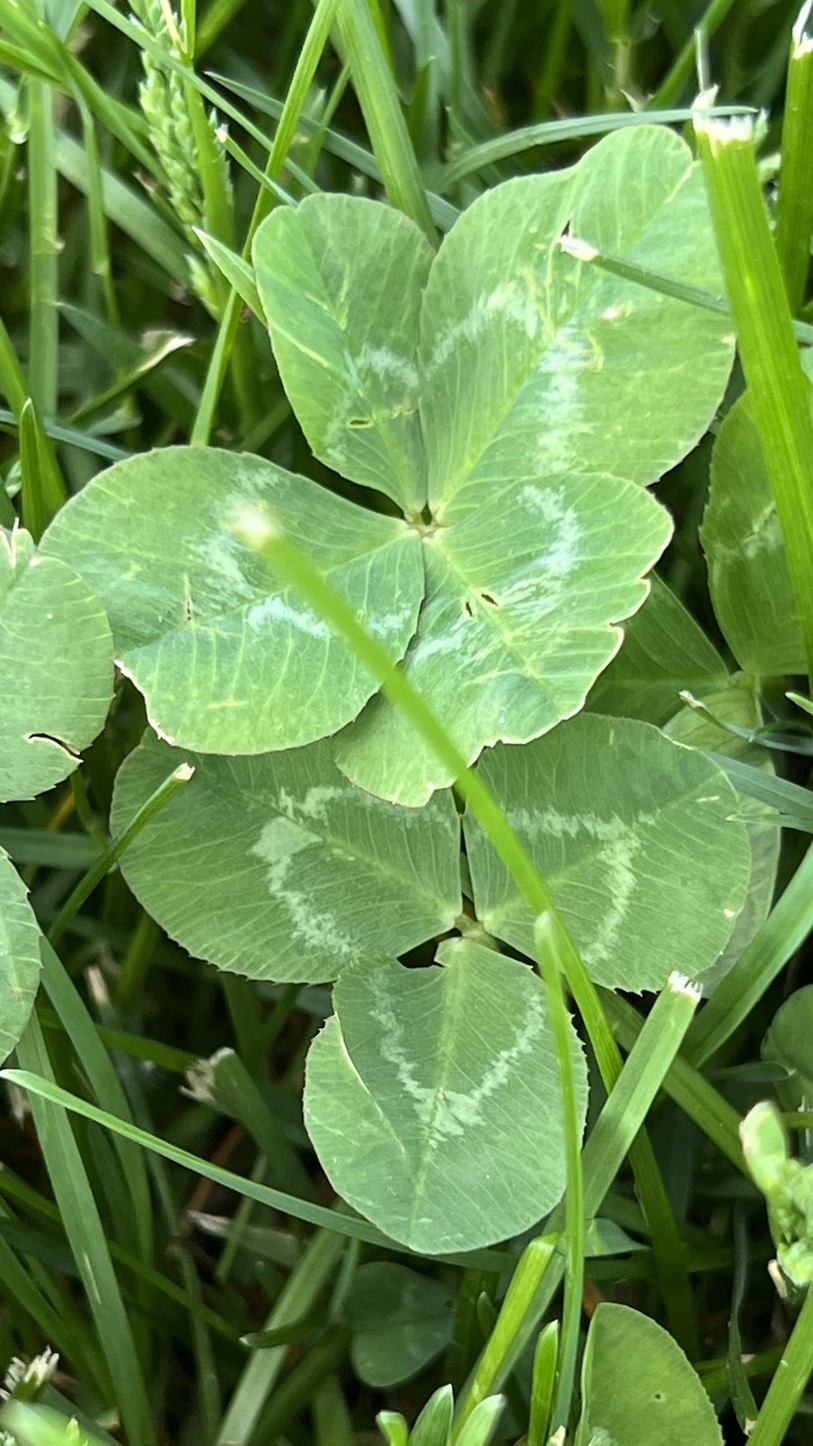4-Leaf-Clovers: (74, 134, 450, 1245)
